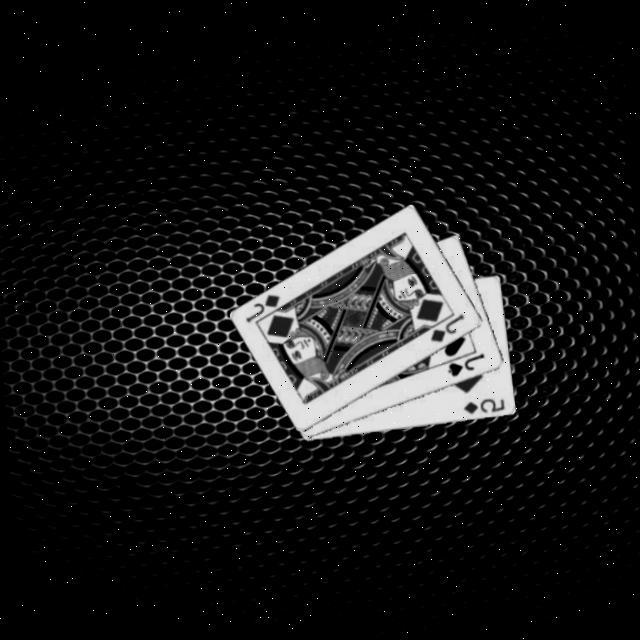5D: (459, 393, 506, 416)
JD: (239, 288, 283, 324), (424, 309, 468, 344)
JS: (442, 349, 487, 378)
